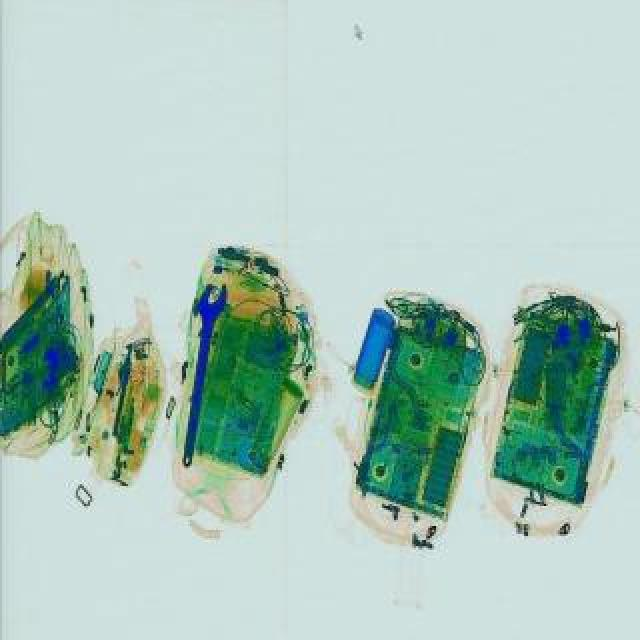scissors: (170, 280, 230, 468)
